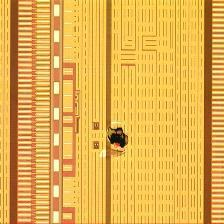PARTICLE: (104, 124, 132, 152)
